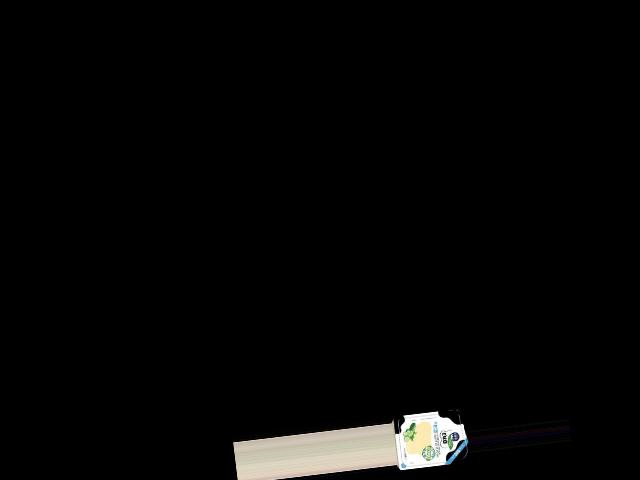cheese: (390, 405, 469, 473)
